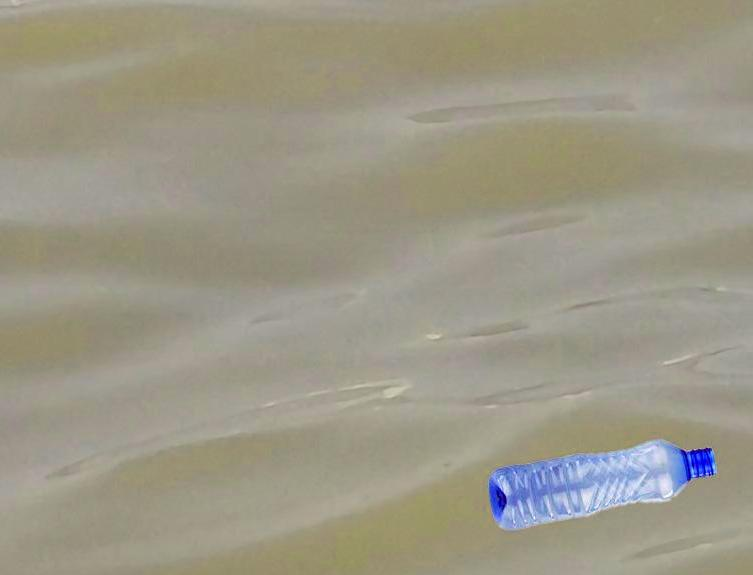Plastic: (486, 434, 718, 533)
